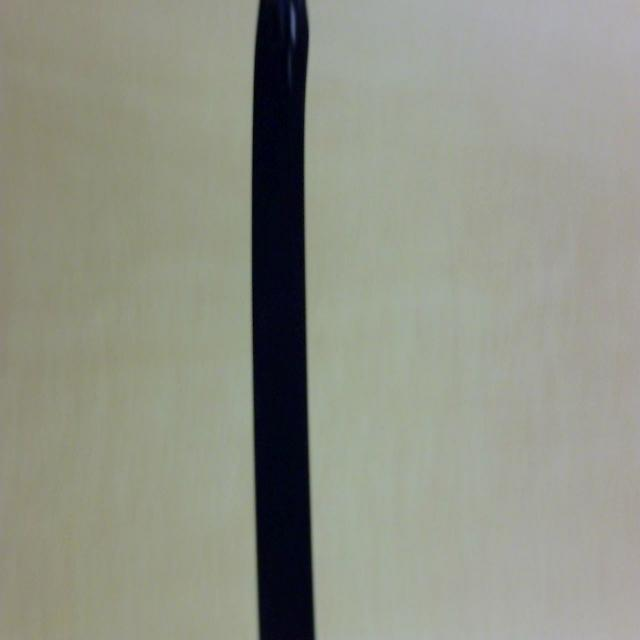tape: (230, 0, 335, 640)
